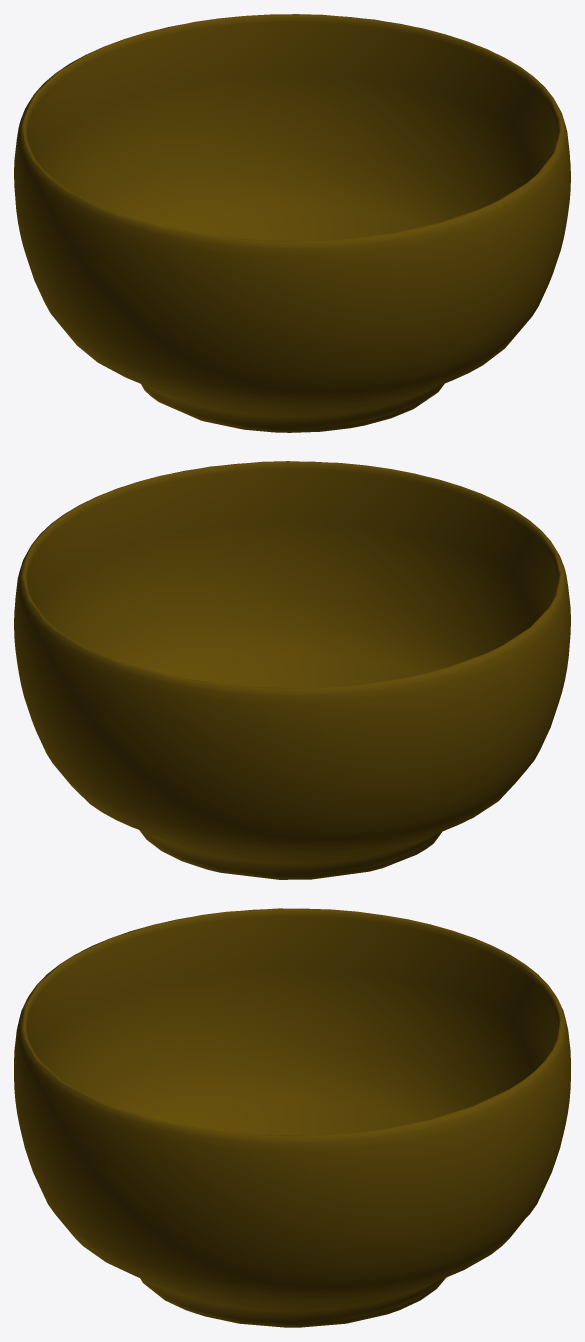
3 renders of one model, top to bottom at view 1: azimuth 30°, elevation 25°; view 2: azimuth 150°, elevation 25°; view 3: azimuth 270°, elevation 25°, orthographic.
Parts seen in each view (by area): view 1: Sphere; view 2: Sphere; view 3: Sphere.
Boxes of the visible parts, x1=… form: Sphere: x1=14, y1=14, x2=570, y2=432; Sphere: x1=14, y1=461, x2=570, y2=879; Sphere: x1=14, y1=908, x2=570, y2=1327.
Bounding box in the file's own units: 0.1587 × 0.0758 × 0.1587.
